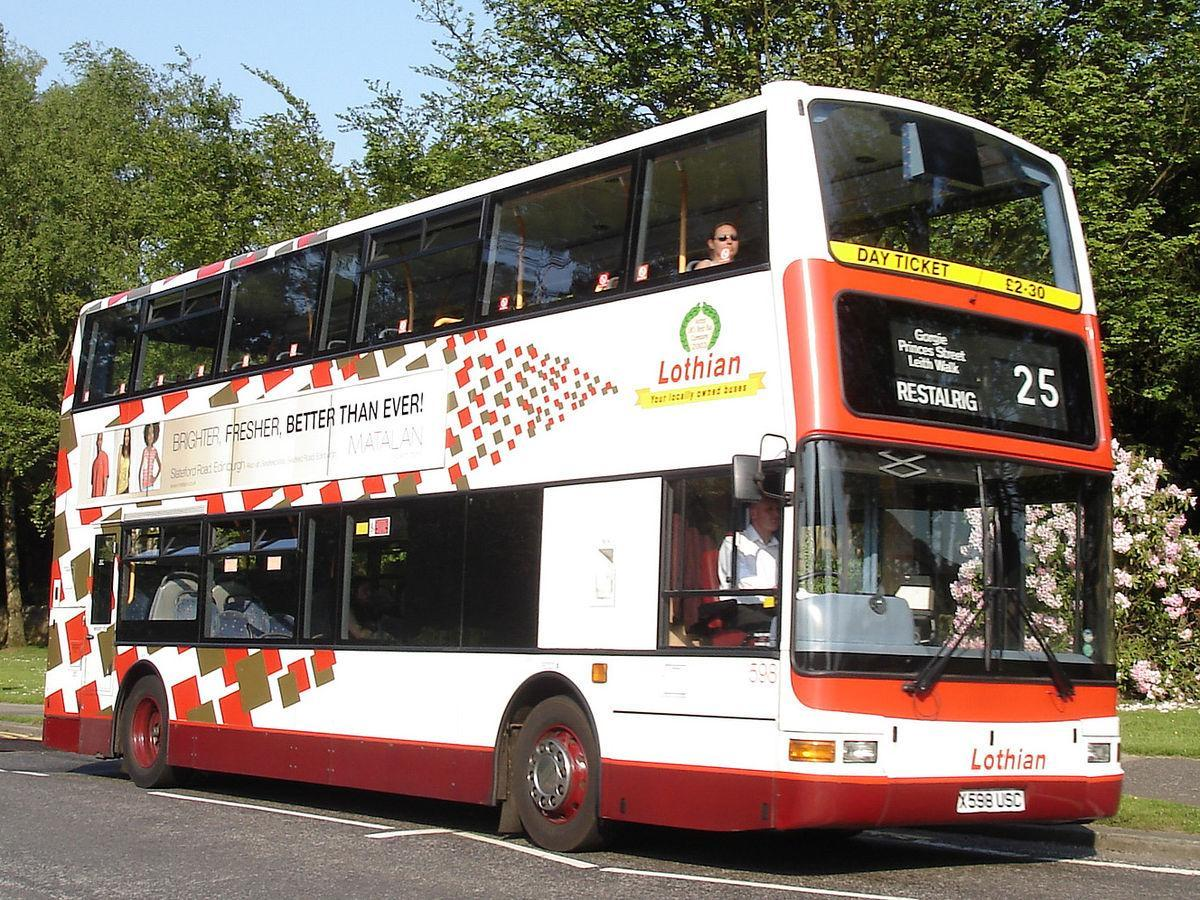Bus: (41, 80, 1128, 857)
